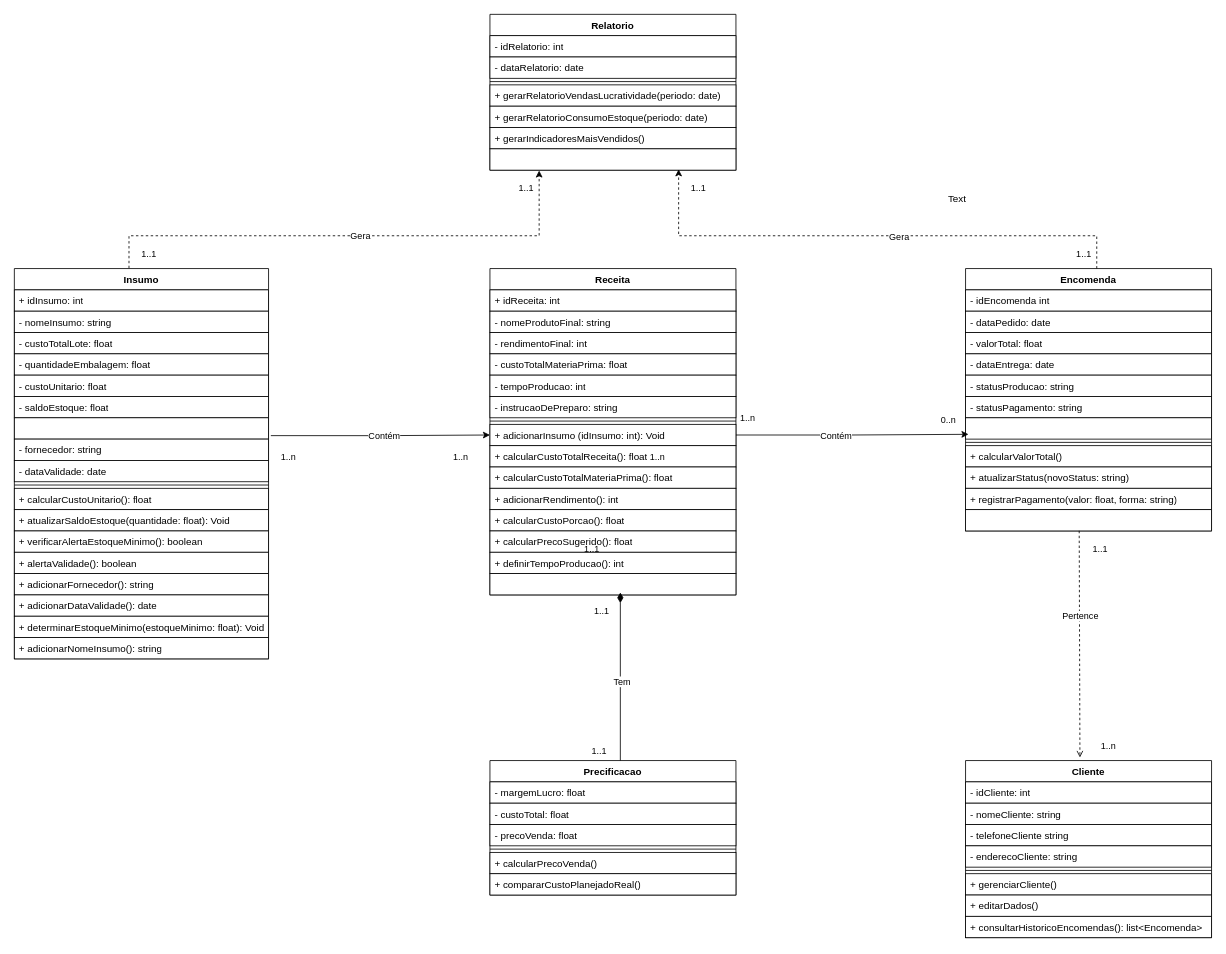
Image size: 1226x954. Some labels were removed from this diagram. Each missing label, with the centre of its shape:
+ adicionarInstrucaoPreparo(): string: the point at 612,584
+ atualizarSaldoEstoque(quantidade: float): the point at 1088,520
+ exportarDados(formato: string): the point at 612,159
- estoqueMinimo: float: the point at 141,428
- formaPagamento: string: the point at 1088,428
